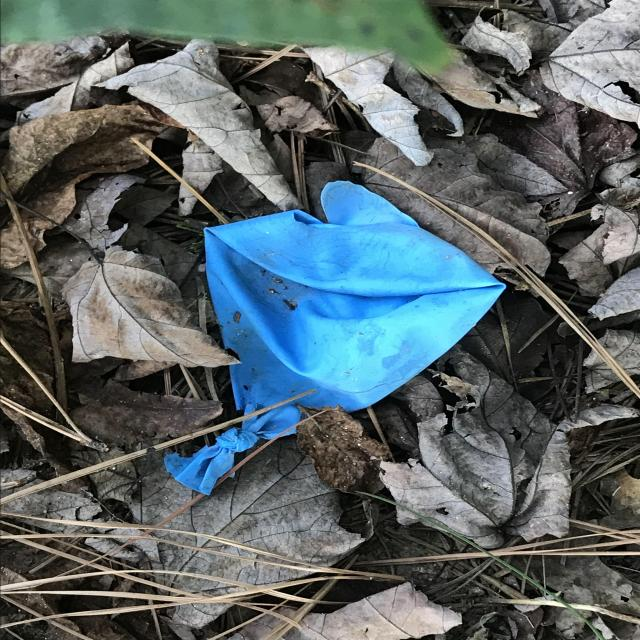litter: (140, 169, 531, 510)
